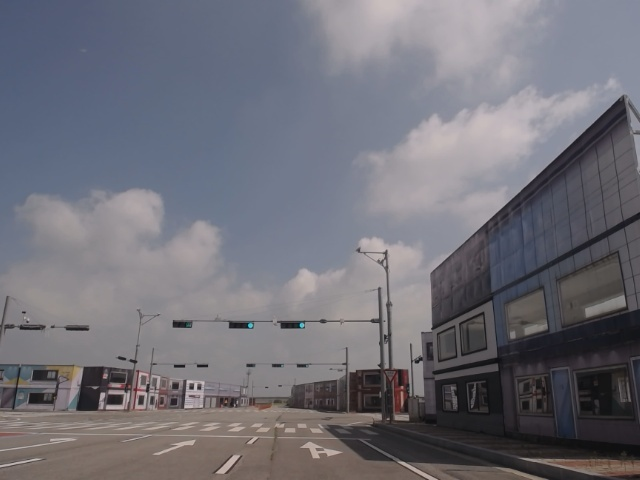straight_green_4: (228, 321, 256, 329), (281, 321, 306, 329)
